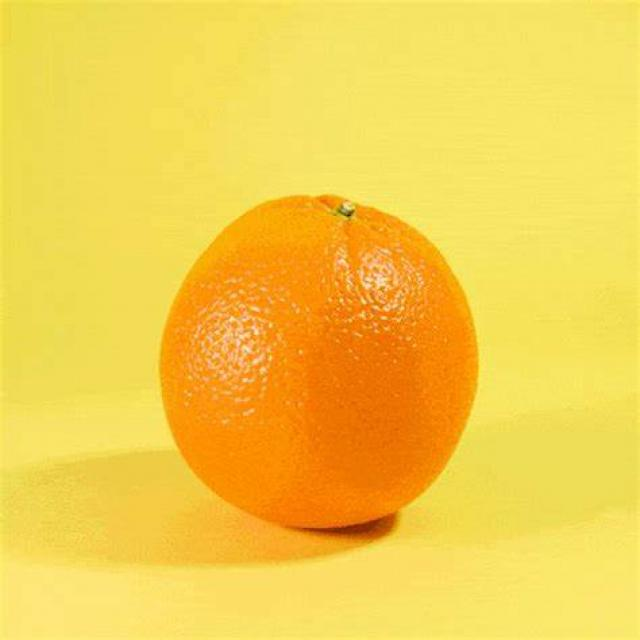Orange: (153, 195, 485, 533)
